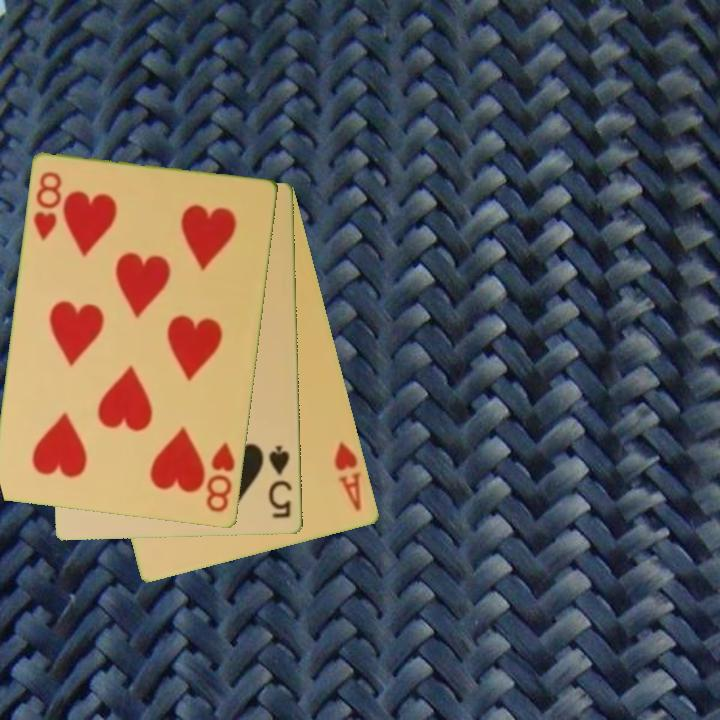5s: (266, 442, 296, 521)
8h: (203, 439, 239, 516), (30, 168, 65, 244)
Ah: (331, 439, 365, 514)
